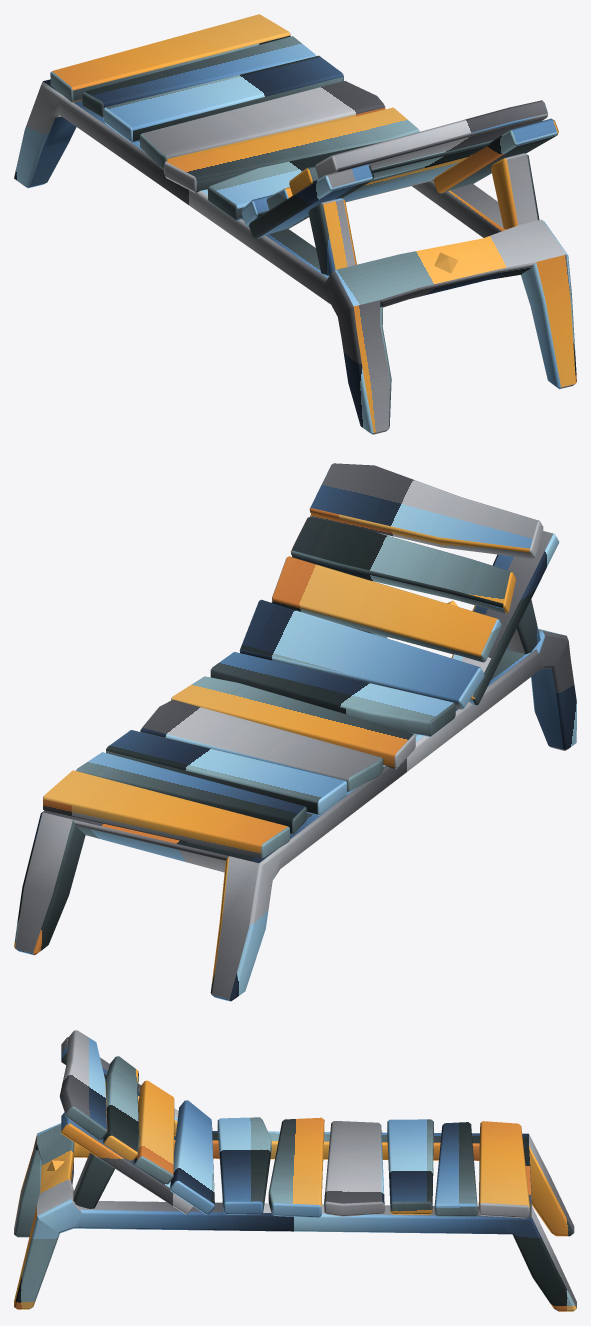
Rendered from Prop_BeachRecliner.glb.
3 renders of one model, top to bottom at view 1: azimuth 30°, elevation 25°; view 2: azimuth 150°, elevation 25°; view 3: azimuth 270°, elevation 25°, orthographic. The views are drawn at different scales.
Visible parts, largest first — view 1: Prop_BeachRecliner; view 2: Prop_BeachRecliner; view 3: Prop_BeachRecliner.
Boxes of the visible parts, left/top/right/bottom form: Prop_BeachRecliner: left=14, top=14, right=576, bottom=434; Prop_BeachRecliner: left=14, top=463, right=576, bottom=1001; Prop_BeachRecliner: left=14, top=1030, right=576, bottom=1311.
Size of the model in its own units: 0.5945 by 0.6459 by 1.58.
1 material, 1 textured.
